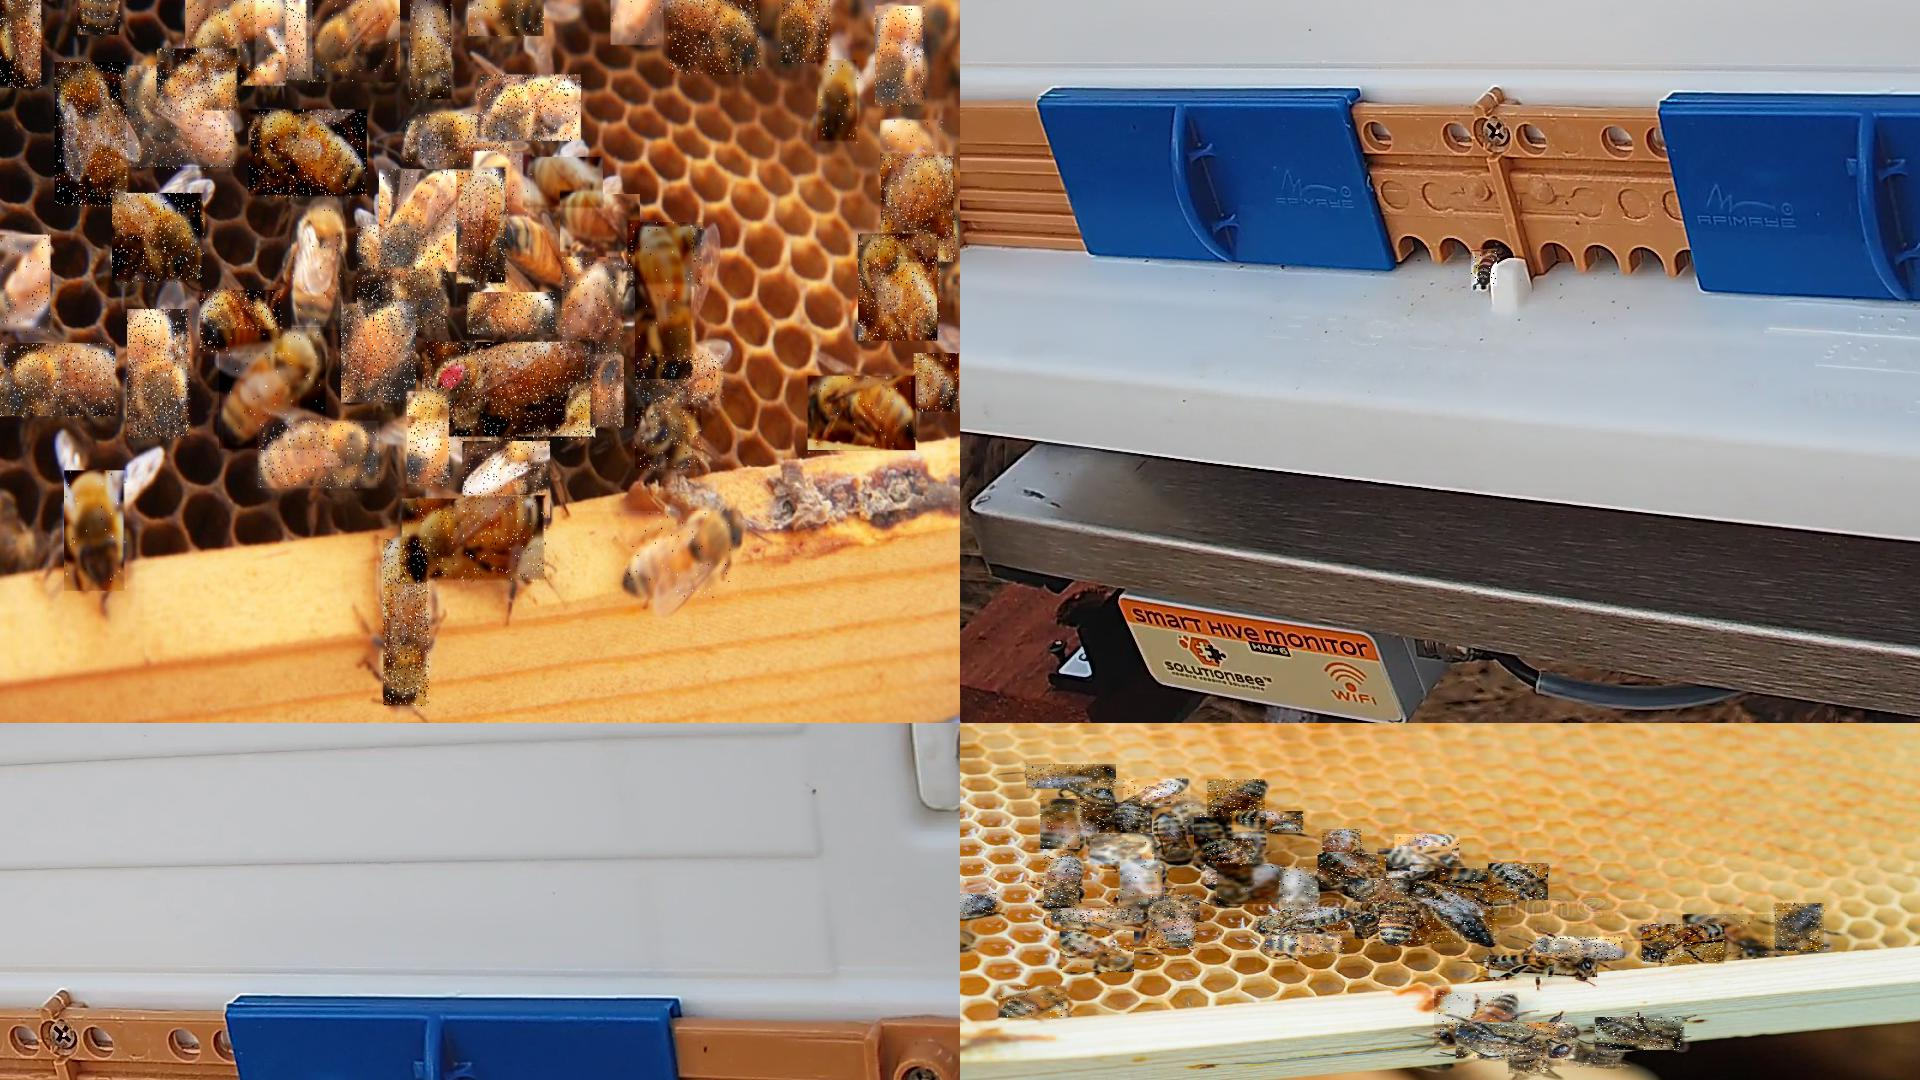bee: (219, 330, 327, 450), (402, 500, 547, 584), (121, 66, 235, 171), (55, 63, 128, 208), (249, 111, 368, 199), (626, 512, 742, 599), (378, 169, 471, 273), (357, 225, 447, 332), (858, 233, 942, 342), (185, 0, 287, 87), (0, 343, 116, 418), (808, 377, 919, 455), (636, 228, 692, 378), (258, 421, 381, 489), (113, 194, 206, 285), (128, 310, 191, 440), (881, 156, 957, 262), (306, 0, 402, 84), (384, 539, 430, 708), (65, 471, 128, 592), (342, 303, 417, 405), (463, 442, 551, 524), (477, 75, 582, 142), (291, 198, 343, 334), (669, 0, 761, 75), (562, 258, 624, 361), (458, 171, 509, 289), (405, 113, 512, 165), (200, 290, 282, 353), (0, 235, 51, 335), (157, 49, 237, 112), (876, 7, 926, 108), (560, 195, 641, 257), (628, 223, 703, 287), (256, 0, 313, 80), (636, 353, 724, 405), (1433, 992, 1519, 1043), (634, 407, 703, 471), (473, 152, 534, 223), (407, 392, 452, 488), (525, 157, 604, 211), (410, 0, 452, 100), (468, 291, 560, 335), (1683, 914, 1775, 957), (881, 121, 945, 178), (819, 61, 860, 145), (1060, 930, 1139, 973), (1642, 924, 1726, 964), (781, 0, 832, 65), (1596, 1017, 1688, 1051), (469, 0, 545, 37), (1217, 865, 1286, 905), (1150, 895, 1200, 949), (914, 353, 959, 413), (1208, 779, 1266, 824), (1490, 956, 1598, 980), (1776, 903, 1828, 952), (611, 0, 665, 46), (591, 357, 625, 429), (1489, 864, 1549, 903), (1026, 764, 1117, 790), (1091, 833, 1156, 869), (998, 985, 1069, 1018), (1207, 839, 1254, 887), (1254, 910, 1352, 934), (1319, 855, 1391, 884), (1040, 799, 1081, 851), (1349, 865, 1424, 893), (1394, 835, 1461, 864), (1536, 938, 1623, 960), (1044, 853, 1080, 907), (1124, 779, 1192, 807), (1120, 861, 1163, 905), (1195, 818, 1232, 864), (1378, 849, 1453, 872), (1324, 829, 1366, 869), (1280, 866, 1319, 910), (1076, 787, 1113, 831), (1233, 811, 1304, 833), (78, 0, 120, 36), (1381, 902, 1415, 945), (1266, 935, 1346, 953), (1051, 907, 1145, 923), (1232, 824, 1266, 865), (1354, 878, 1411, 902), (1561, 1047, 1623, 1068), (1116, 803, 1151, 839), (1171, 799, 1208, 831), (960, 893, 1000, 916), (1436, 868, 1493, 884), (1510, 1056, 1552, 1076), (1356, 910, 1379, 939)
drone: (1457, 1022, 1577, 1059)
pollenbee: (0, 0, 42, 88), (1472, 249, 1498, 290)
queen: (422, 343, 597, 442), (1406, 880, 1498, 944)
